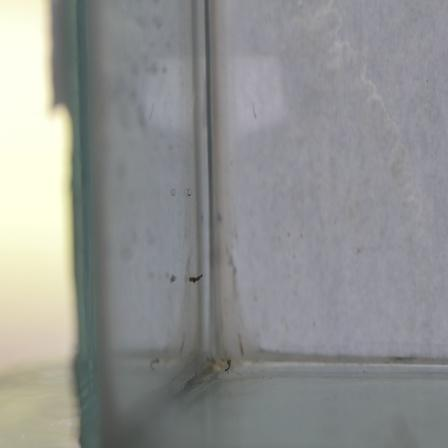Jentik-Nyamuk: (187, 272, 206, 287), (221, 356, 234, 373)
